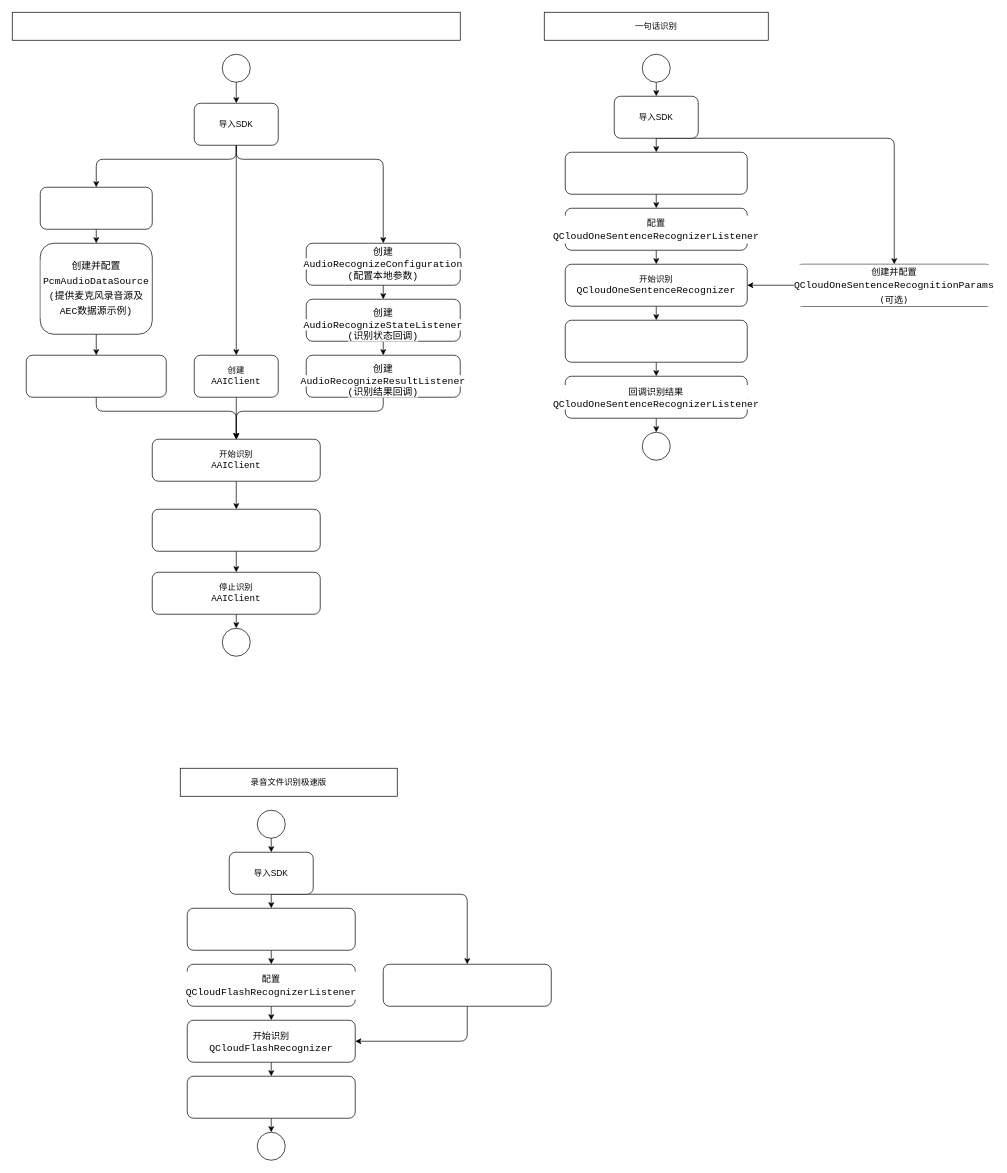
The diagram is 1007 pixels wide and 1173 high, and some of its shapes have lost their labels. The box of each missing label's shape, as (x1, y1, x2, y2) in pixels:
停止识别 QCloudOneSentenceRecognizer (仅使用内置录音时调用): (565, 320, 747, 362)
创建 AudioRecognizeRequest (配置后端请求参数): (26, 355, 166, 397)
创建 QCloudFlashRecognitionParams: (383, 964, 551, 1006)
创建 QCloudFlashRecognizer: (187, 908, 355, 950)
创建 QCloudOneSentenceRecognizer: (565, 152, 747, 194)
回调识别结果 AudioRecognizeResultListener: (152, 509, 320, 551)
回调识别结果 QCloudFlashRecognizerListener: (187, 1076, 355, 1118)
实时语音识别: (12, 12, 460, 40)
麦克风权限申请: (40, 187, 152, 229)
